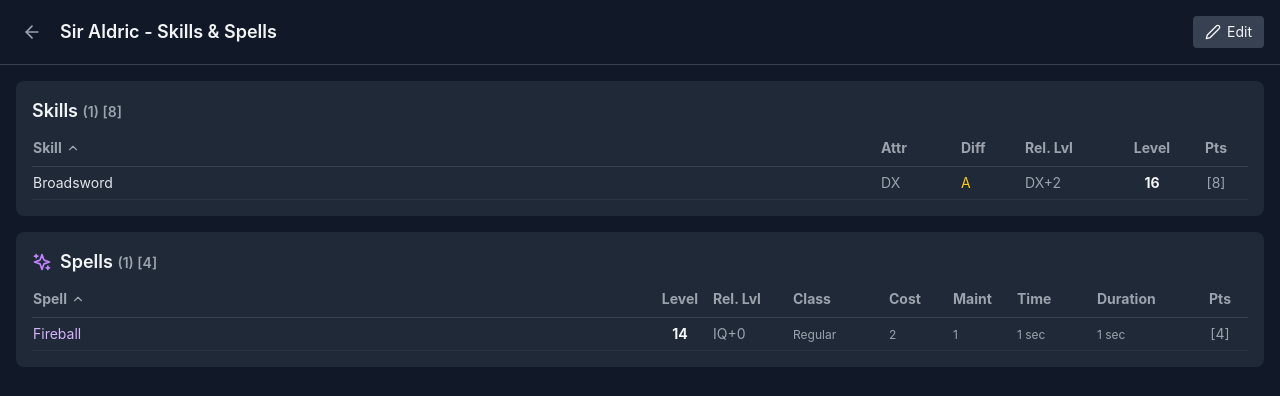
Test: CharacterSkillsPanel › Cancel button exits edit mode without saving
The image size is (1280, 396).
Click the button "Edit": coordinates (1228, 32) 1193,16 -> 1264,48
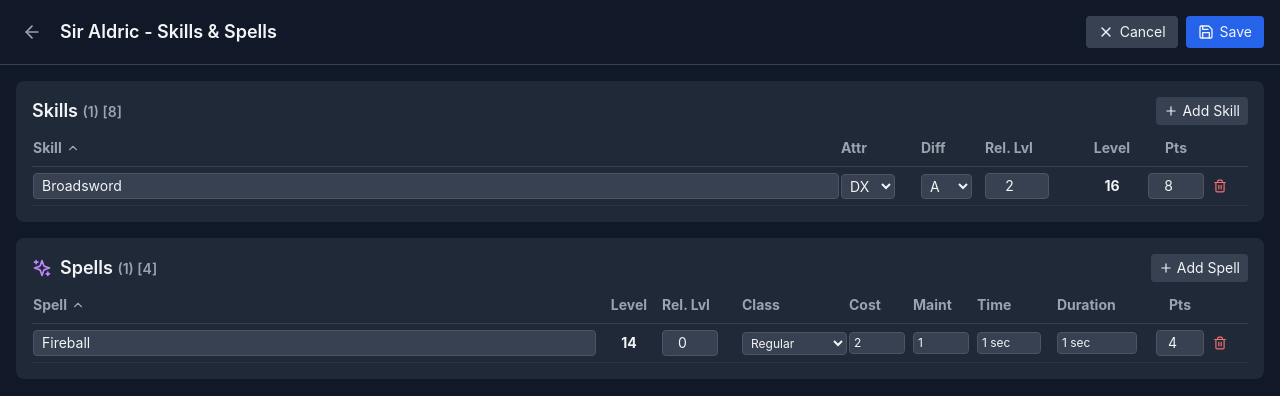
Click the button "Cancel": coordinates (1132, 32) 1086,16 -> 1178,48
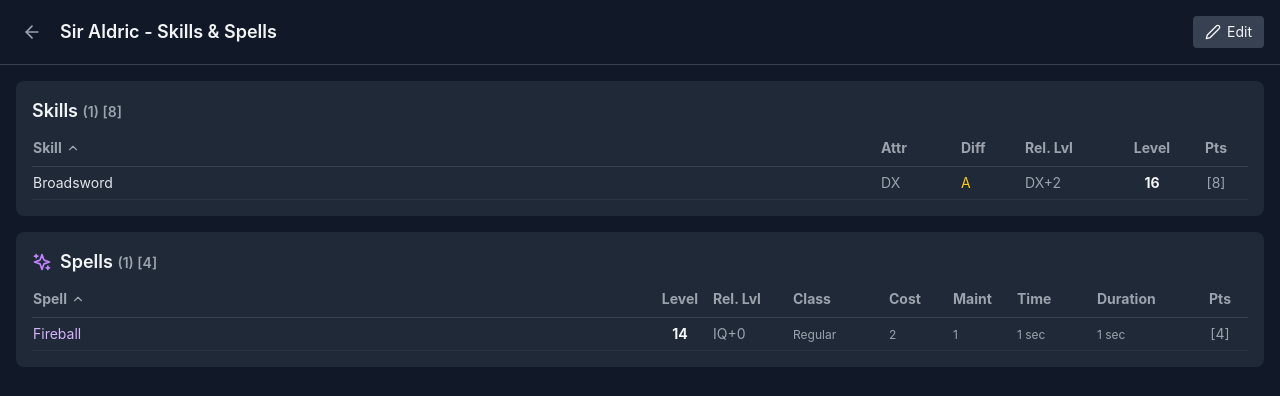
Expected: the button "Edit" is shown, 1193,16 -> 1264,48
